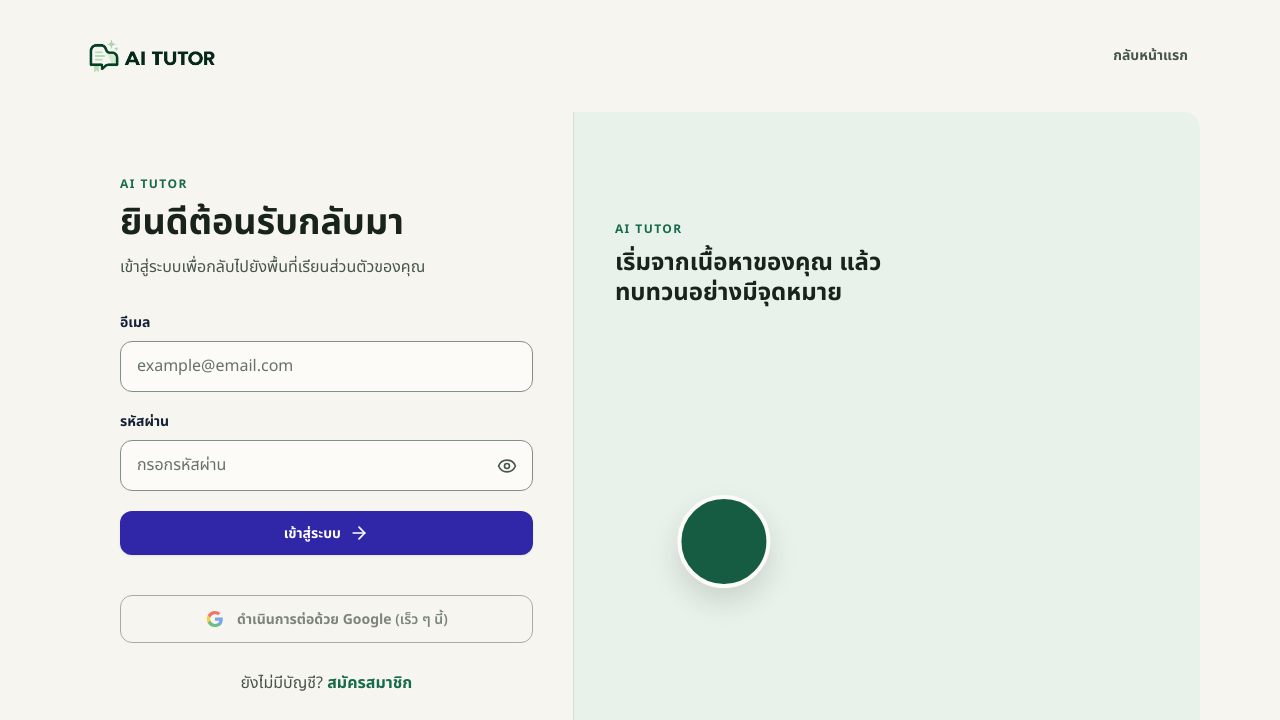
Test case: LoginPage › preserves the safe verified-email guidance for a login 403
Type "student@example.com" into the field labelled "อีเมล" at coordinates (326, 366), box top-left (120, 341), bottom-right (533, 392)
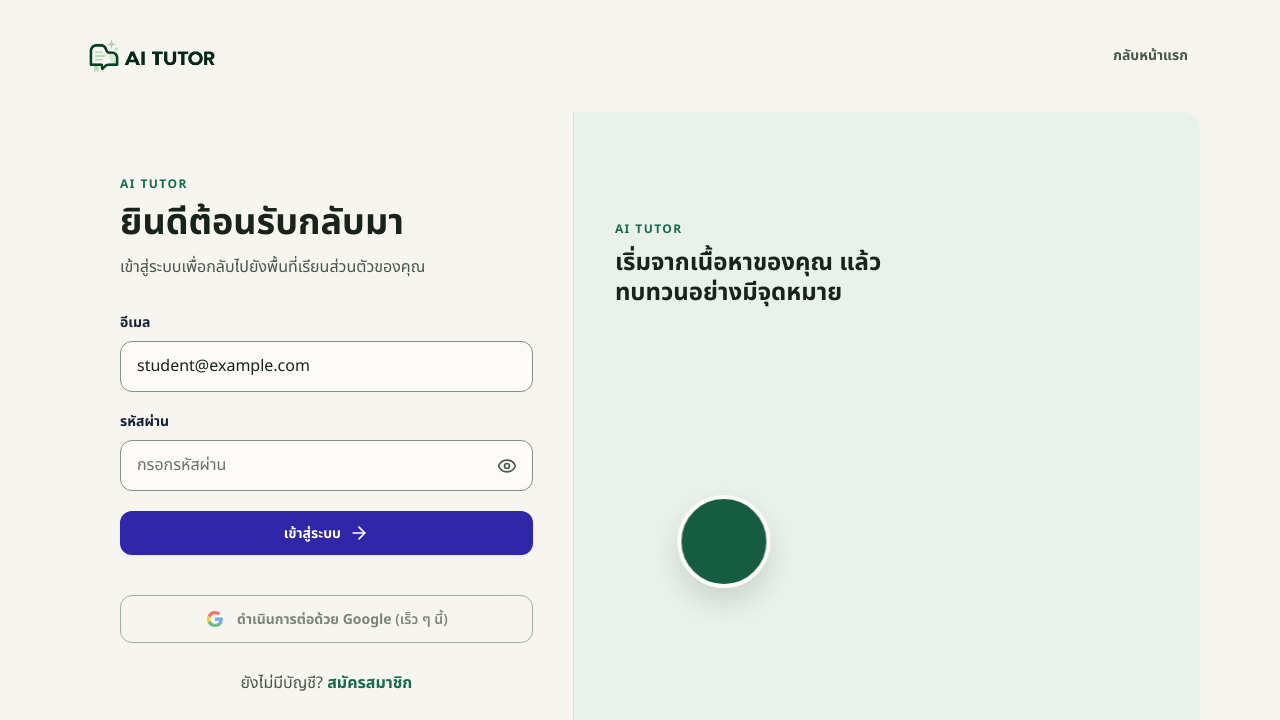
Type "learning123" into the password field labelled "รหัสผ่าน" at coordinates (326, 466), box top-left (120, 440), bottom-right (533, 491)
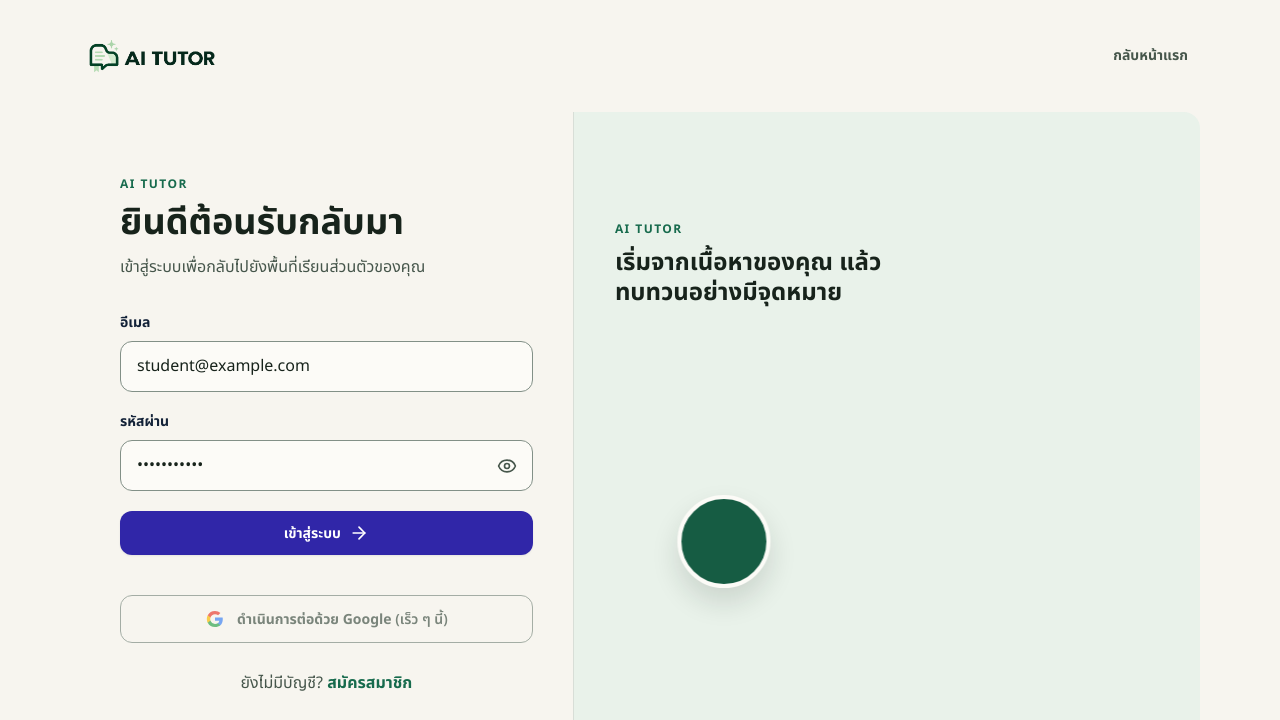
Click the button "เข้าสู่ระบบ" at coordinates (326, 533), box top-left (120, 511), bottom-right (533, 555)
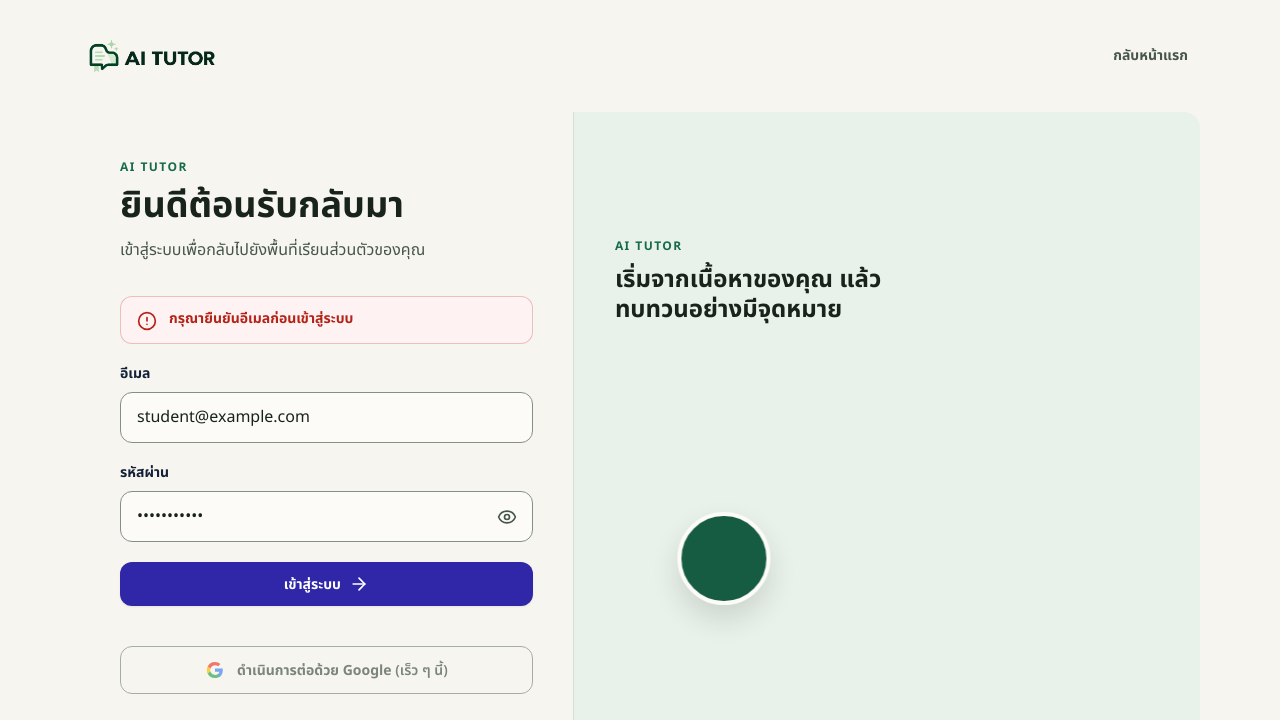
Check: the message reads "กรุณายืนยันอีเมลก่อนเข้าสู่ระบบ", box top-left (169, 308), bottom-right (353, 329)
